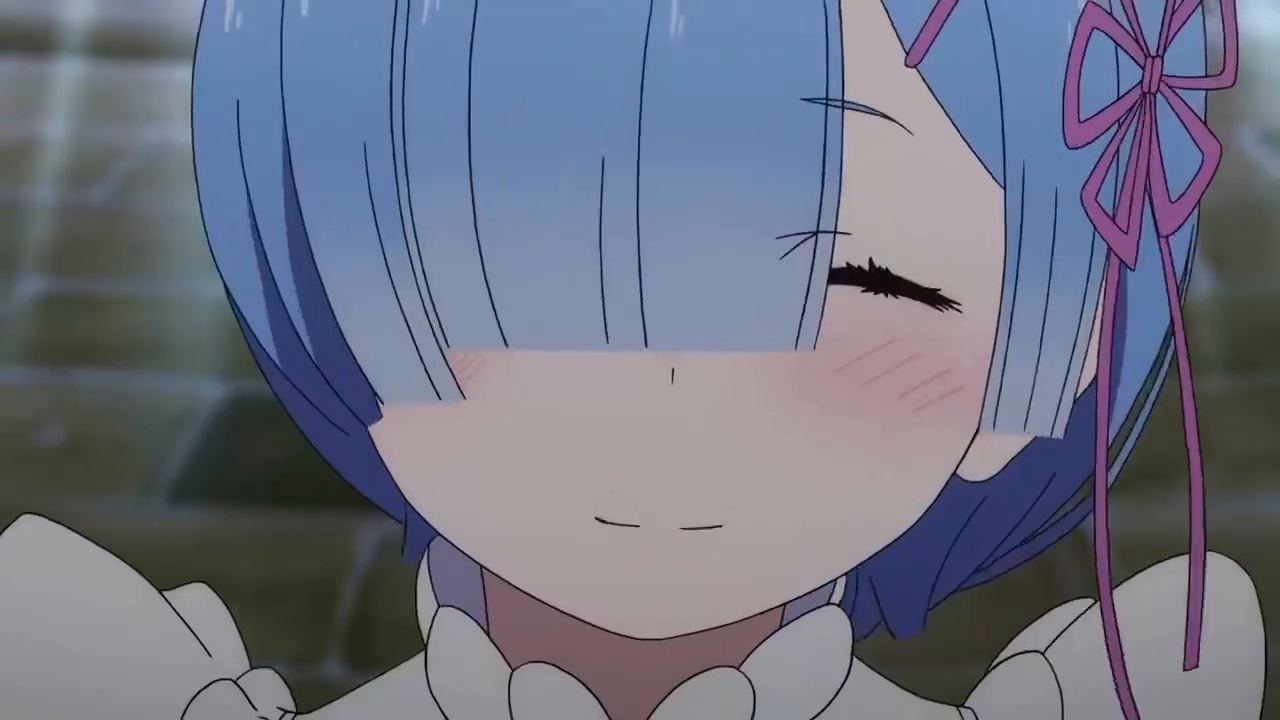REM: (191, 1, 1200, 647)
